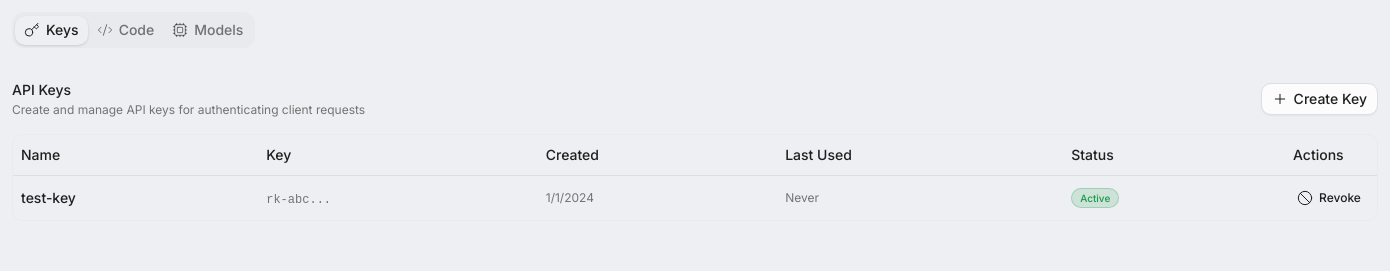
Test: ApiKeysSection › handleAction — revoke › fetch failure → shows error feedback to user
Click the button "Revoke" at [1329, 198], box [1293,184,1365,212]
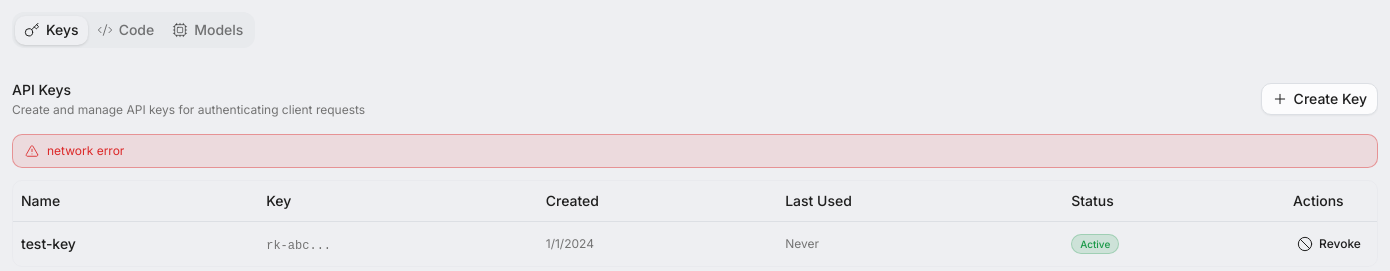
Result: the text "network error" is shown at [47,143,124,159]
